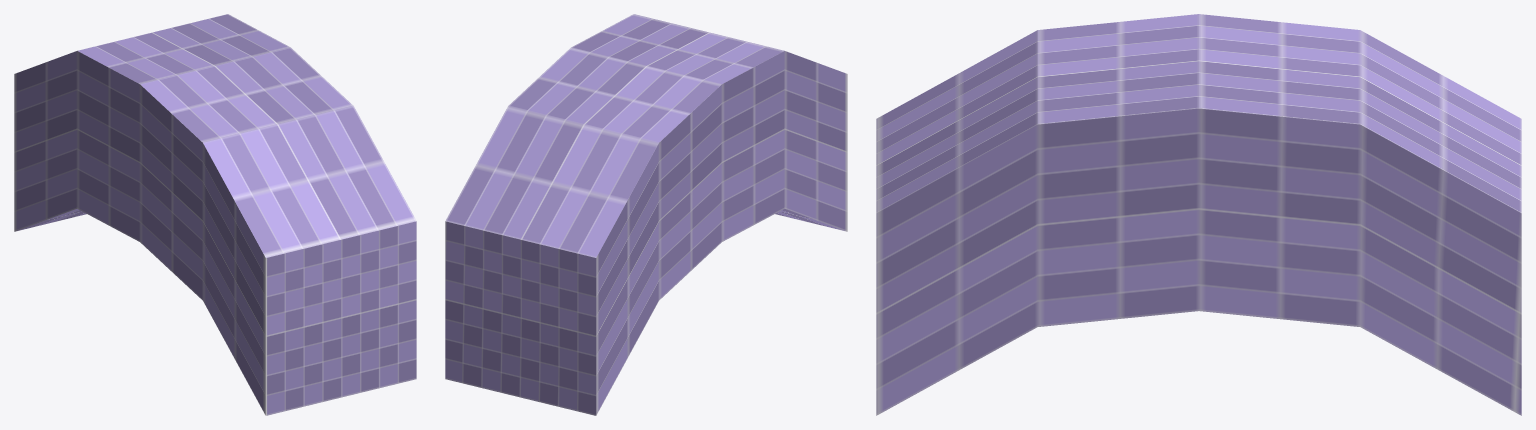
The model's file is Arch.glb.
The picture shows the model from 3 angles, left to right: view 1: azimuth 30°, elevation 25°; view 2: azimuth 150°, elevation 25°; view 3: azimuth 270°, elevation 25°; orthographic projection. The views are drawn at different scales.
Parts seen in each view (by area): view 1: Cube; view 2: Cube; view 3: Cube.
Part boxes in pixels (bbox=[...]): Cube: bbox=[14, 14, 416, 415]; Cube: bbox=[445, 14, 847, 415]; Cube: bbox=[876, 14, 1521, 415].
Size of the model in its own units: 0.7382 by 1.12 by 2.13.
Materials: 1 (1 with a texture image).
